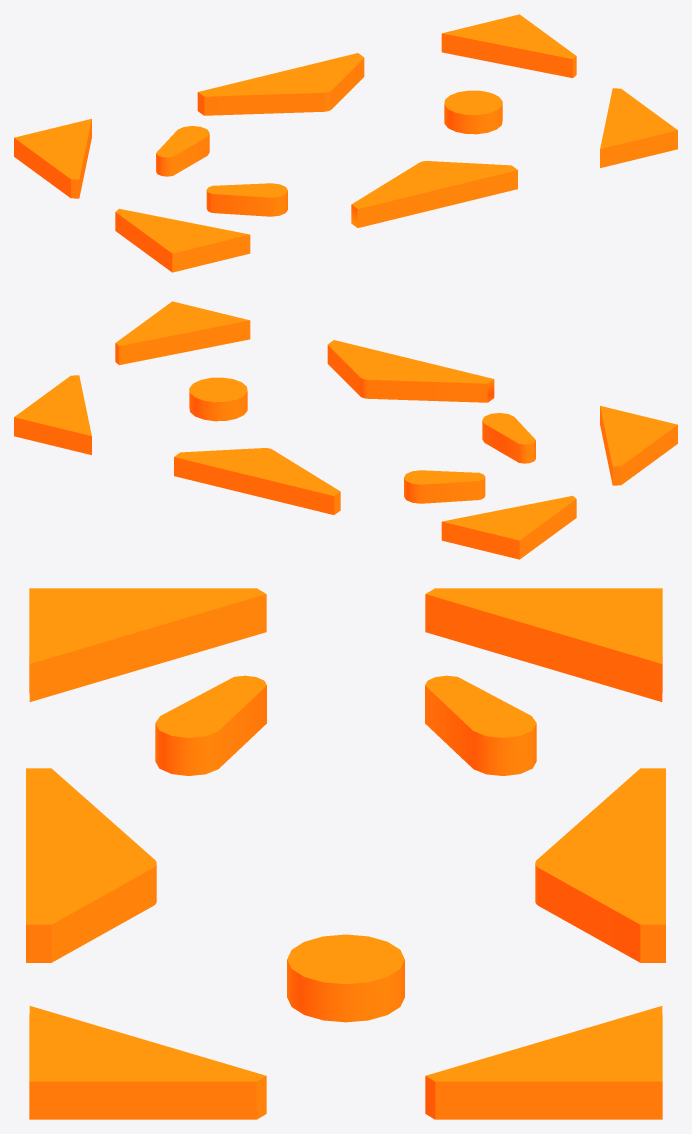
Rendered from Pinball Level.fbx.
The picture shows the model from 3 angles, top to bottom: view 1: azimuth 30°, elevation 25°; view 2: azimuth 150°, elevation 25°; view 3: azimuth 270°, elevation 25°; orthographic projection. The views are drawn at different scales.
Parts seen in each view (by area): view 1: Circle.004, Circle.005, Circle.006, Circle.011, Circle.007, Circle.010, Circle.009, Circle.001, Circle.008; view 2: Circle.005, Circle.004, Circle.007, Circle.010, Circle.006, Circle.011, Circle.008, Circle.001, Circle.009; view 3: Circle.006, Circle.007, Circle.010, Circle.011, Circle.004, Circle.005, Circle.001, Circle.008, Circle.009.
Boxes of the visible parts, x1,y1,x2,y2 form: Circle.004: (197, 53, 364, 115); Circle.005: (351, 161, 517, 227); Circle.006: (115, 208, 250, 272); Circle.011: (441, 14, 576, 78); Circle.007: (14, 119, 91, 198); Circle.010: (600, 88, 677, 167); Circle.009: (206, 183, 287, 216); Circle.001: (444, 90, 502, 134); Circle.008: (156, 126, 209, 176); Circle.005: (327, 340, 494, 402); Circle.004: (174, 448, 340, 514); Circle.007: (441, 495, 576, 559); Circle.010: (115, 301, 250, 365); Circle.006: (600, 406, 677, 485); Circle.011: (14, 375, 91, 454); Circle.008: (404, 470, 485, 503); Circle.001: (189, 377, 247, 421); Circle.009: (482, 413, 535, 463); Circle.006: (29, 588, 266, 701); Circle.007: (425, 588, 662, 701); Circle.010: (29, 1006, 266, 1119); Circle.011: (425, 1006, 662, 1119); Circle.004: (535, 768, 665, 962); Circle.005: (26, 768, 156, 962); Circle.001: (287, 934, 404, 1022); Circle.008: (425, 675, 536, 775); Circle.009: (155, 675, 266, 775).
Size of the model in its own units: 694 by 25 by 380.
